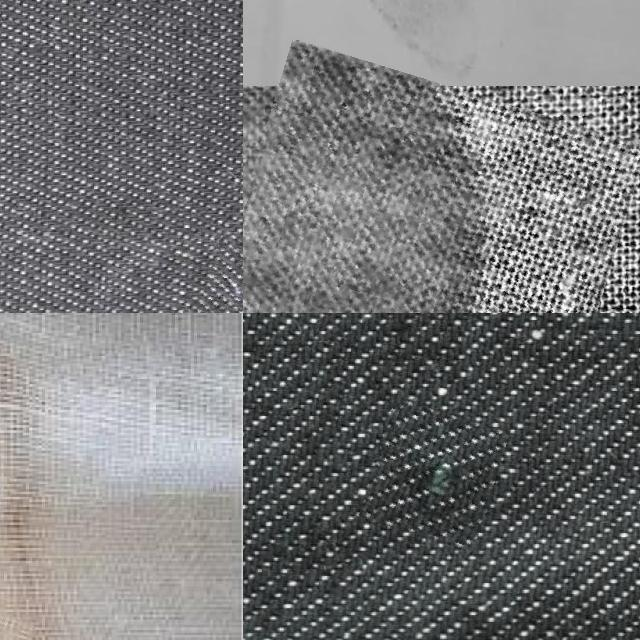Thread_other: (243, 62, 626, 313), (319, 0, 515, 85)
stains: (367, 403, 503, 543), (199, 237, 243, 313)
